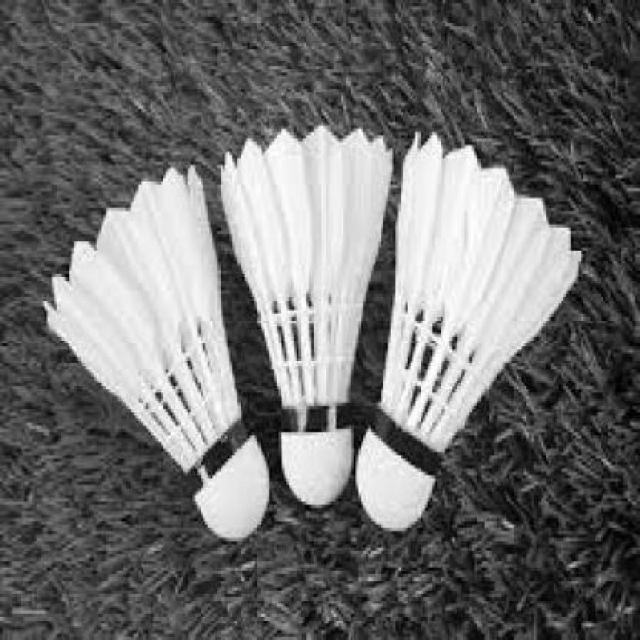Shuttlecock: (352, 128, 585, 532), (43, 162, 274, 546), (220, 125, 395, 508)
